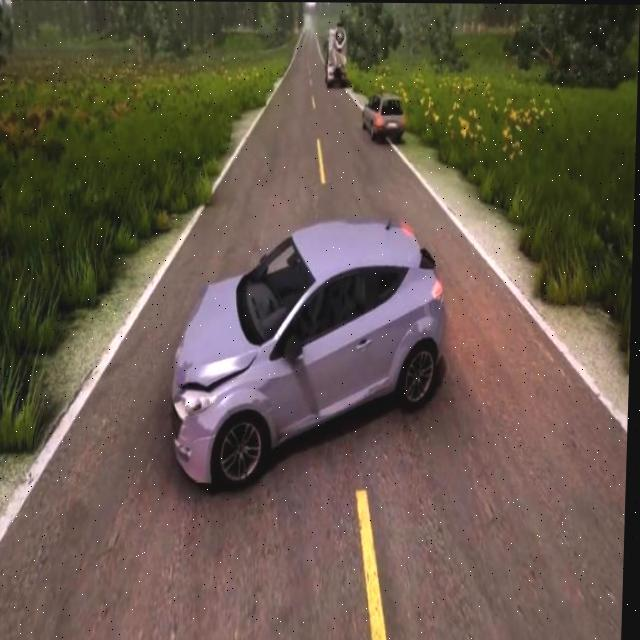single accident: (147, 162, 450, 498)
